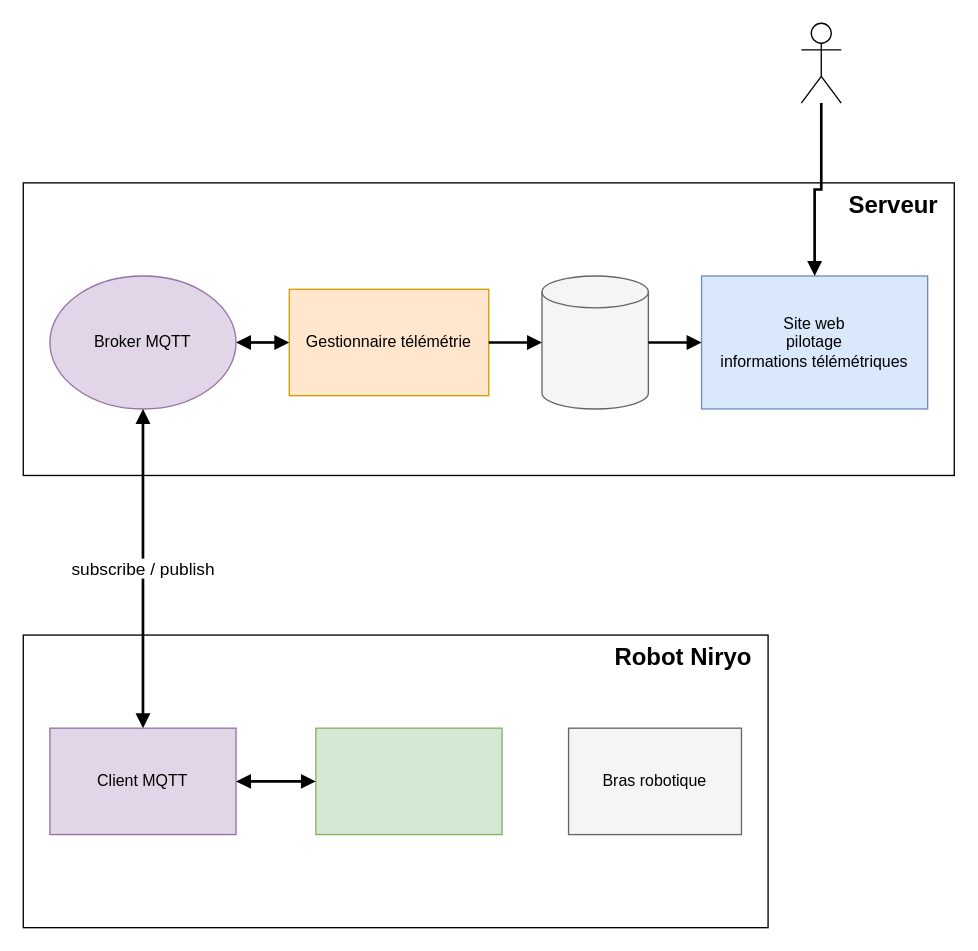
Some shapes in this 978 by 951 pixel diagram are drawn without their labels. The centre of each missing label's shape, as x and y in pixels:
"API CQRS" goes at (x=408, y=781).
"BDD" goes at (x=594, y=342).
"Utilisateur" goes at (x=820, y=62).
